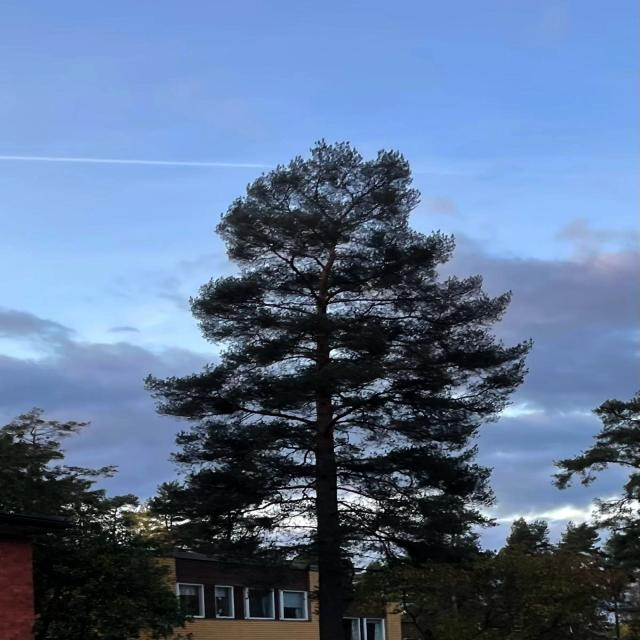pine: (119, 124, 542, 640)
